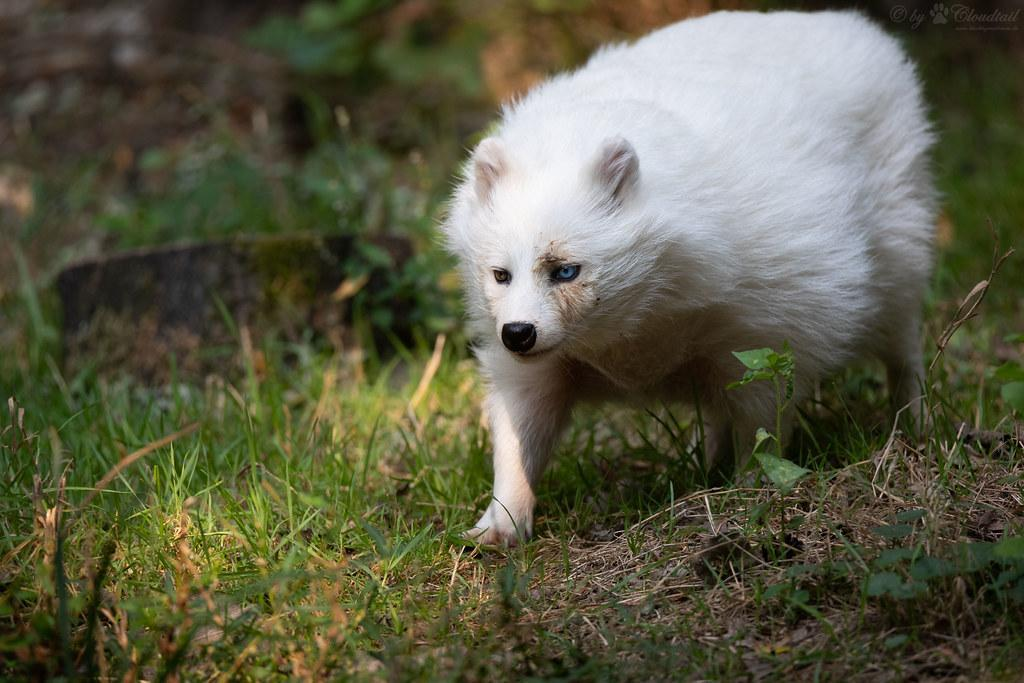raccoon: (441, 7, 940, 553)
